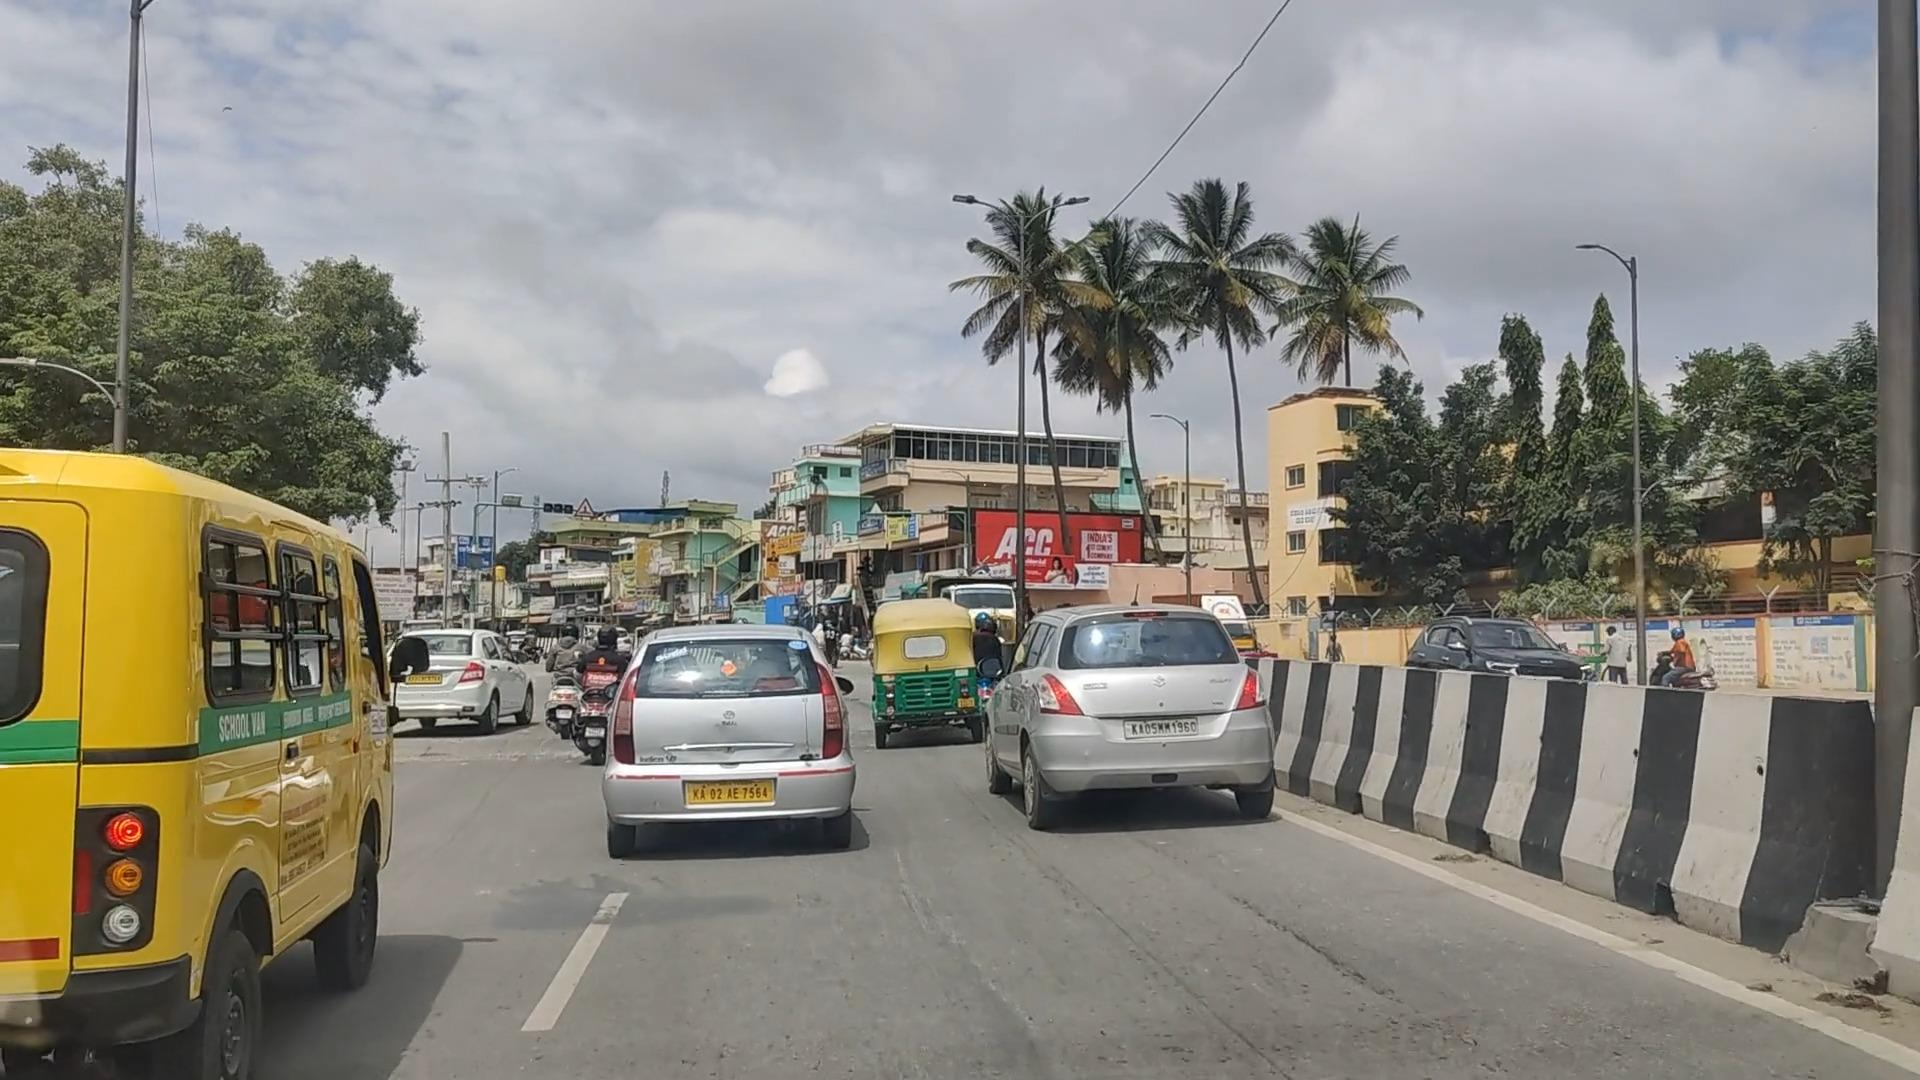LMV: (0, 419, 473, 1080), (597, 584, 885, 865), (988, 585, 1287, 835), (844, 567, 994, 746)
